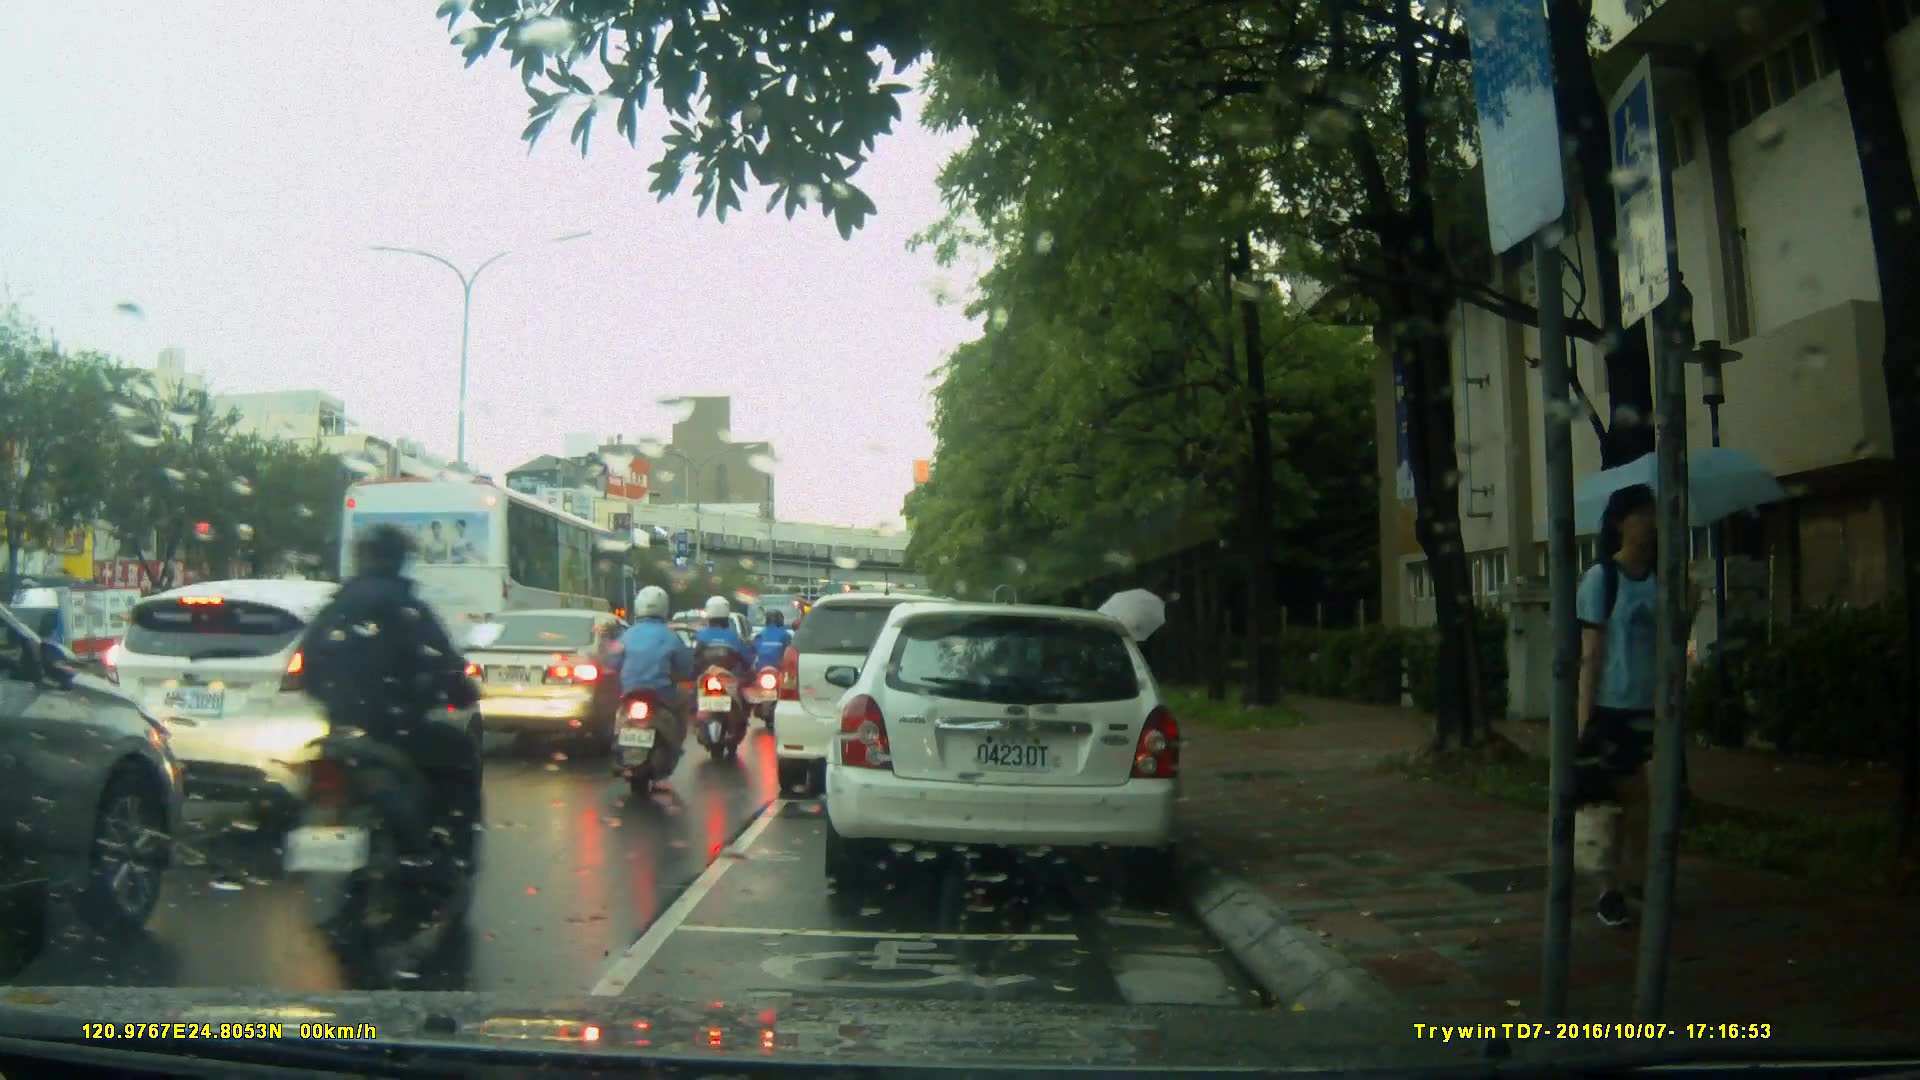pedestrian: (1549, 483, 1707, 951)
rider: (275, 516, 517, 972), (610, 588, 703, 789), (692, 591, 761, 776), (747, 608, 799, 740)
vehicle: (835, 594, 1194, 898), (101, 576, 489, 846), (1, 547, 184, 971), (334, 476, 640, 729), (776, 590, 1026, 784), (437, 606, 673, 754), (1, 586, 155, 697), (614, 621, 721, 710)
